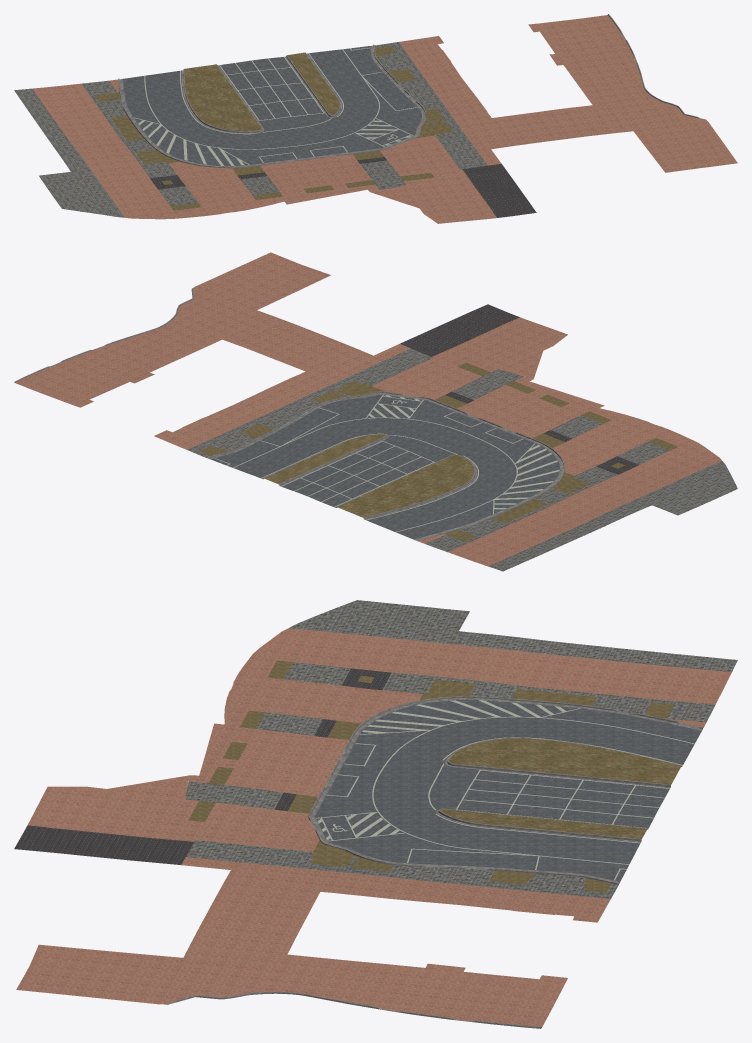
File: zimCreateArchive_Area02_Ground.fbx
3 views of the same model, one above another, from view 1: azimuth 30°, elevation 25°; view 2: azimuth 150°, elevation 25°; view 3: azimuth 270°, elevation 25° (orthographic). The views are drawn at different scales.
Visible parts, largest first — view 1: Ground-Paving-Pink, Ground-Road, Ground-Paving-Grey, Ground-Grass1, Ground-Kerb, Ground-RoadMark, Ground-DarkGrey; view 2: Ground-Paving-Pink, Ground-Road, Ground-Paving-Grey, Ground-Grass1, Ground-Kerb, Ground-RoadMark, Ground-DarkGrey; view 3: Ground-Paving-Pink, Ground-Road, Ground-Paving-Grey, Ground-Grass1, Ground-Kerb, Ground-DarkGrey, Ground-RoadMark.
Part boxes in pixels (x1,y1,x2,y2): Ground-Paving-Pink: (32, 15, 737, 223); Ground-Road: (123, 46, 421, 166); Ground-Paving-Grey: (14, 42, 487, 217); Ground-Grass1: (94, 45, 452, 210); Ground-Kerb: (118, 14, 705, 168); Ground-RoadMark: (133, 47, 417, 165); Ground-DarkGrey: (150, 157, 536, 217); Ground-Paving-Pink: (15, 252, 721, 566); Ground-Road: (211, 394, 559, 539); Ground-Paving-Grey: (187, 348, 737, 571); Ground-Grass1: (199, 362, 678, 541); Ground-Kerb: (14, 288, 564, 540); Ground-RoadMark: (215, 394, 559, 532); Ground-DarkGrey: (400, 304, 638, 474); Ground-Paving-Pink: (16, 628, 731, 1027); Ground-Road: (315, 699, 701, 881); Ground-Paving-Grey: (185, 600, 737, 898); Ground-Grass1: (188, 660, 681, 892); Ground-Kerb: (166, 696, 703, 1028); Ground-DarkGrey: (14, 668, 391, 864); Ground-RoadMark: (316, 700, 694, 880).
Size of the model in its own units: 103 by 74.04 by 0.5947.
Materials: 7 (7 with a texture image).
